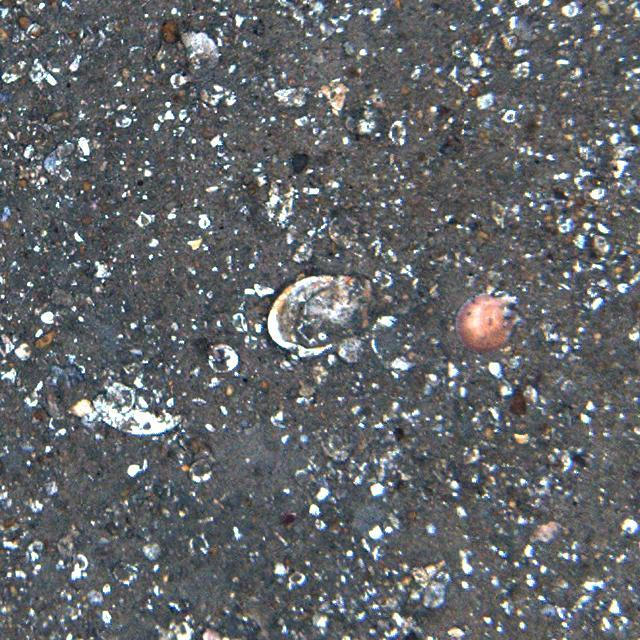scallop: (459, 289, 514, 351)
